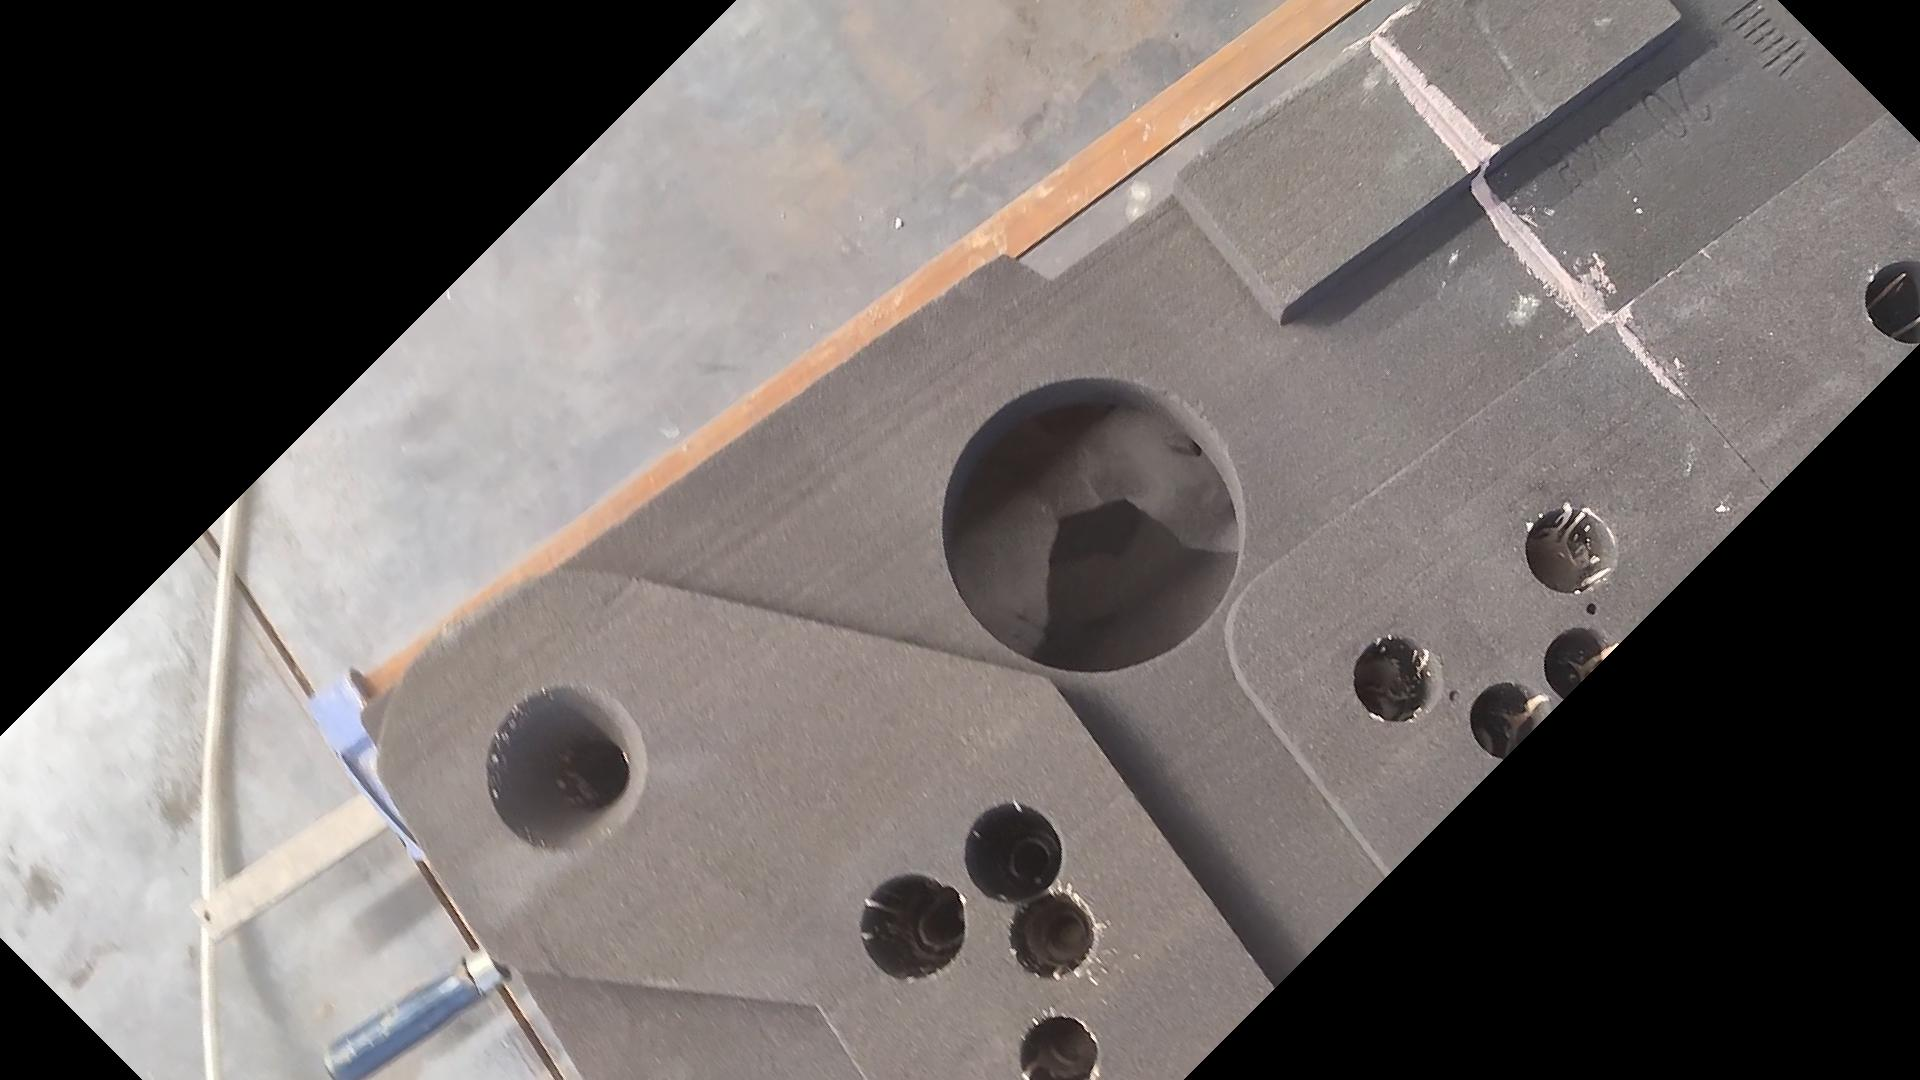pouring hole: (483, 680, 646, 853)
